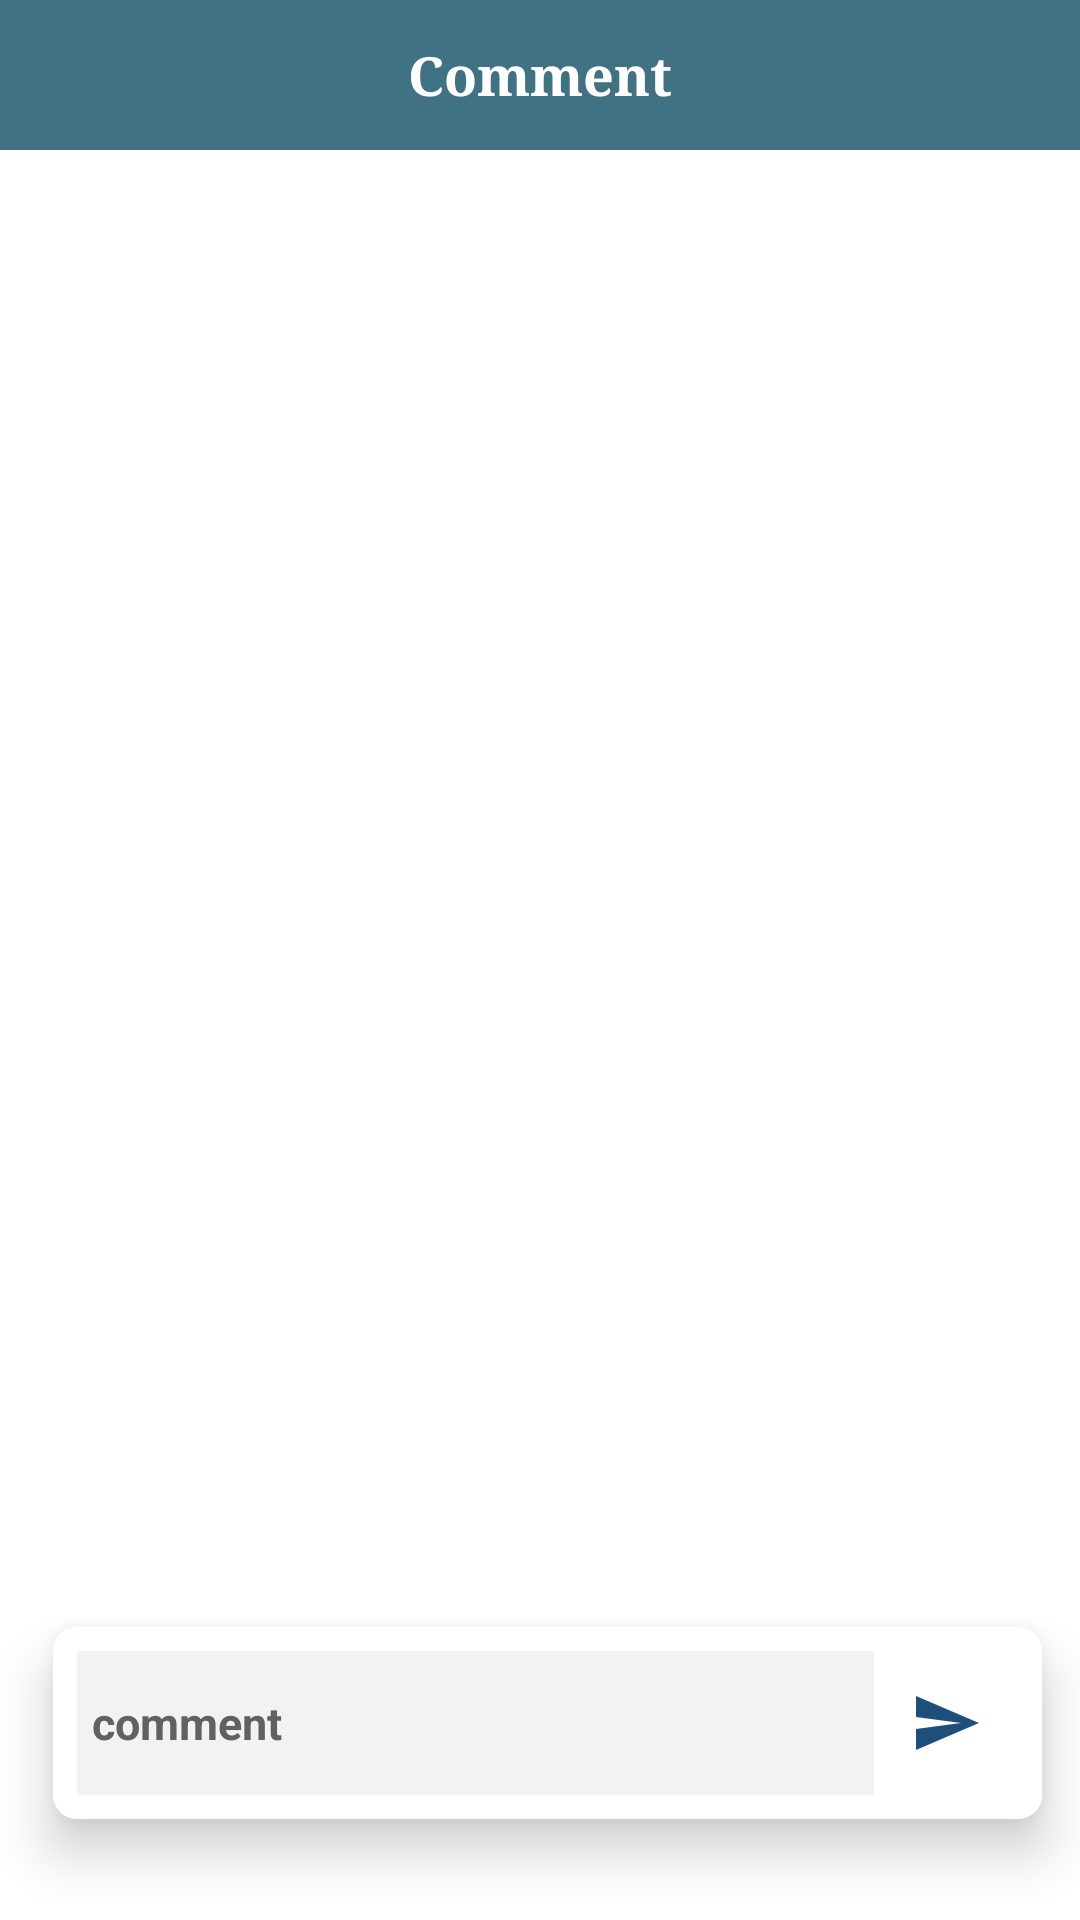

Icons on this 1080px x 1920px Android screen, each with the point to tap as point (x, y):
send: point (947, 1723)
